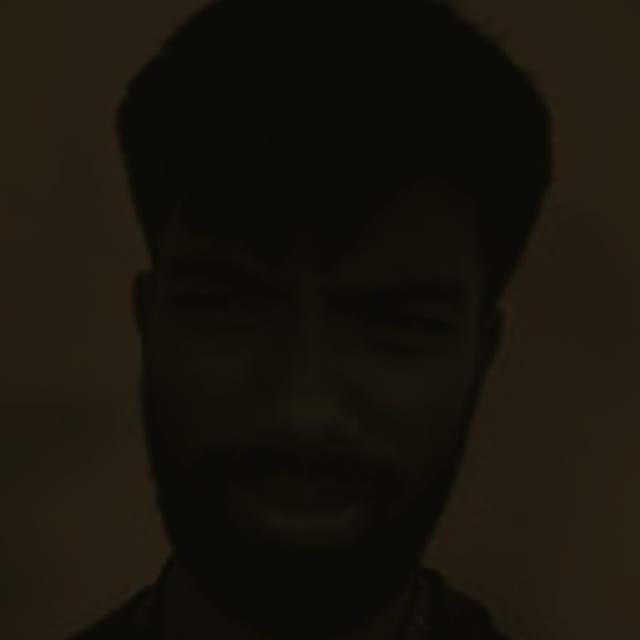Disgust: (119, 139, 518, 635)
